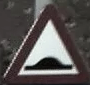Speed Breaker ahead: (4, 2, 86, 81)
